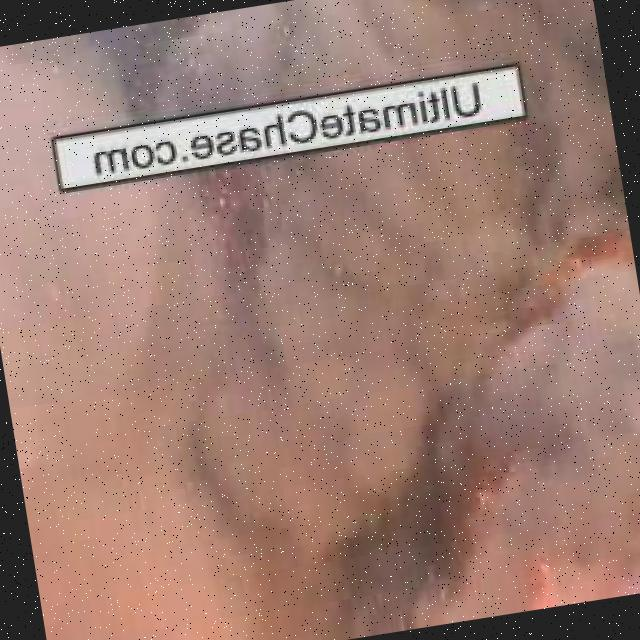Fire: (387, 402, 640, 628), (524, 202, 640, 351)
